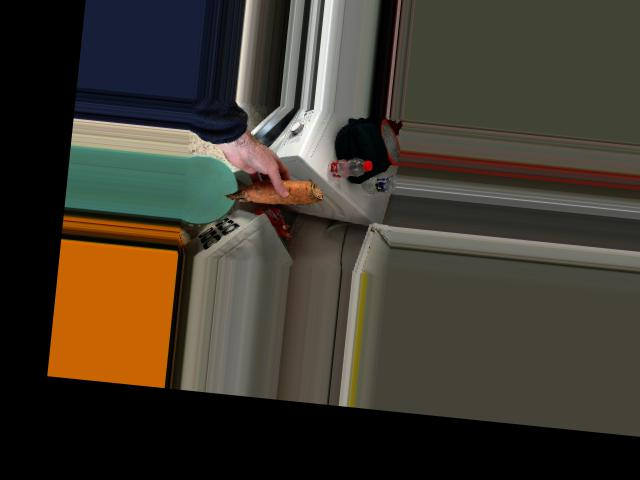sweet_potato: (226, 173, 318, 208)
